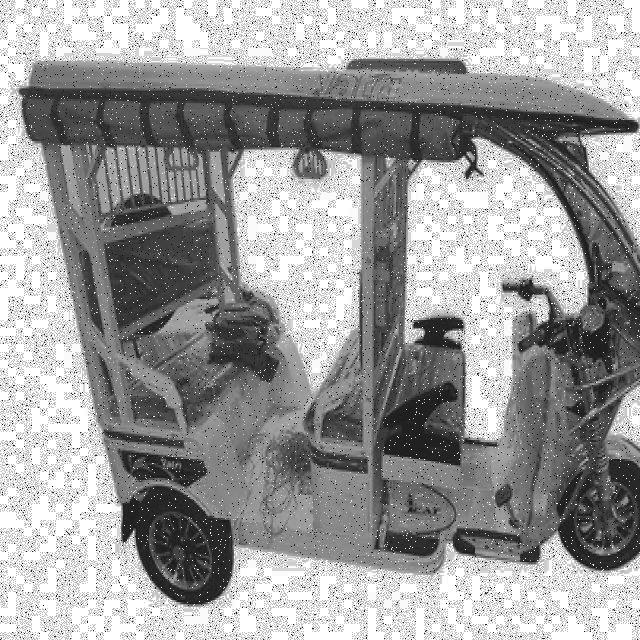Toto: (11, 46, 640, 616)
